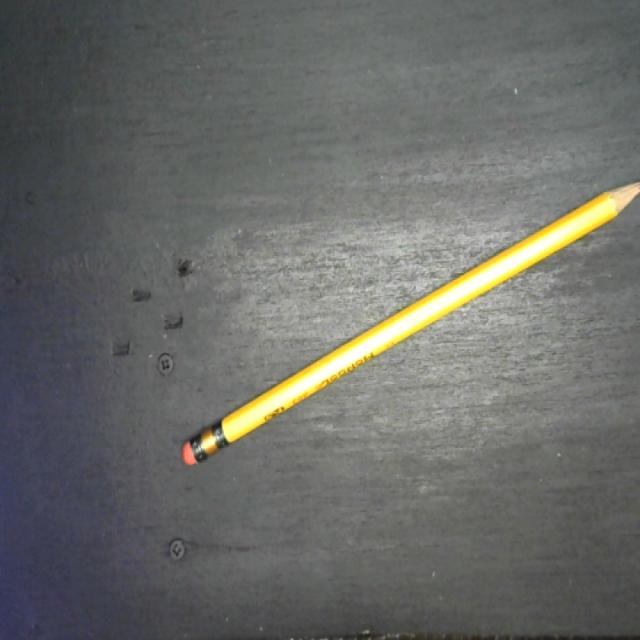biodegradable: (176, 175, 640, 476)
